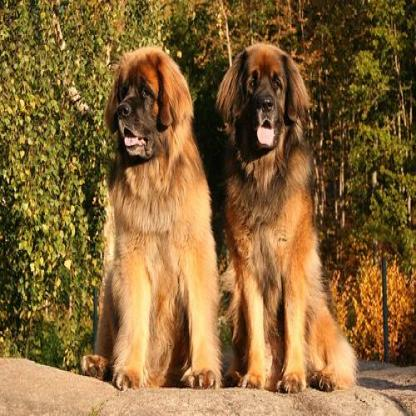Leonberg: (211, 38, 357, 394), (79, 45, 221, 390)
